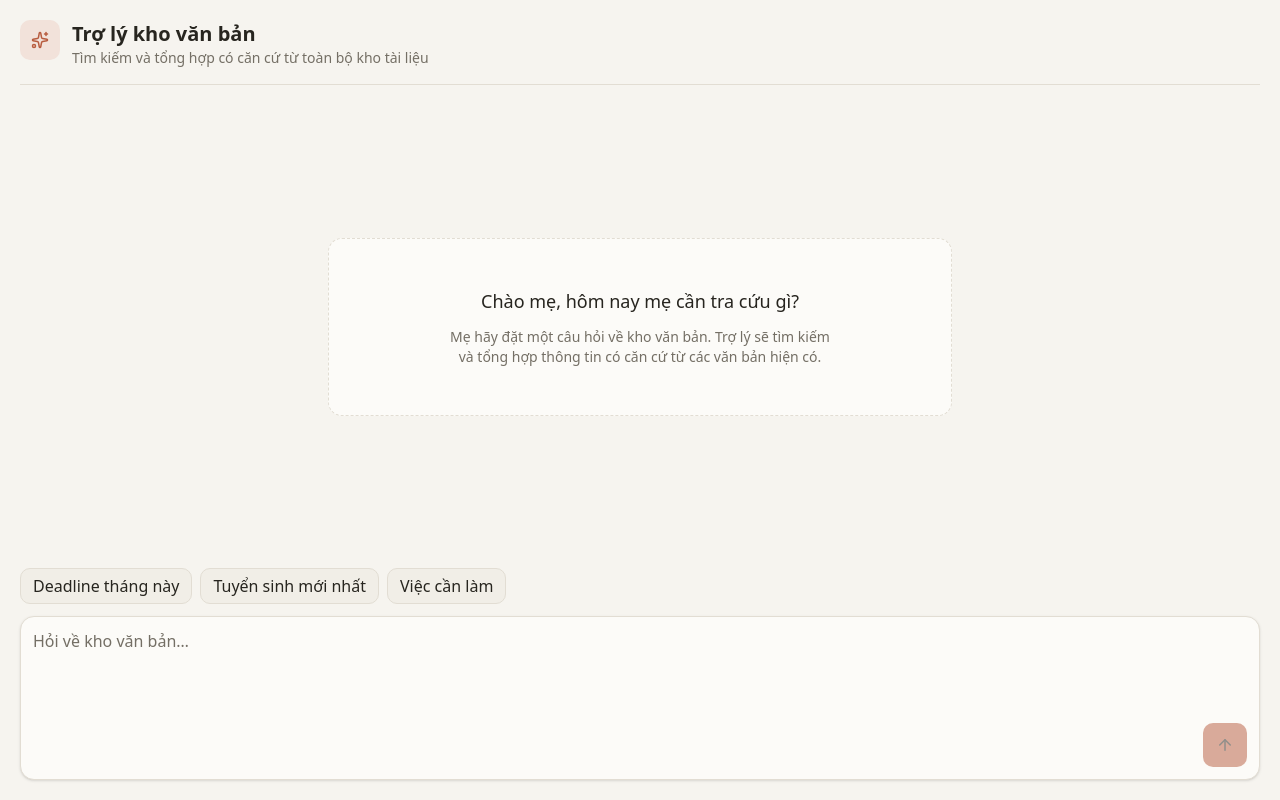
it: ArchiveAssistantPanel › 2. Every rendered citation chip belongs to the group whose document it cites — assert a citation for doc B does NOT appear under doc A's group
The width and height of the screenshot is (1280, 800).
Type "Các trích dẫn?" into the text box named "Câu hỏi" at (640, 669), box [33,629,1247,709]
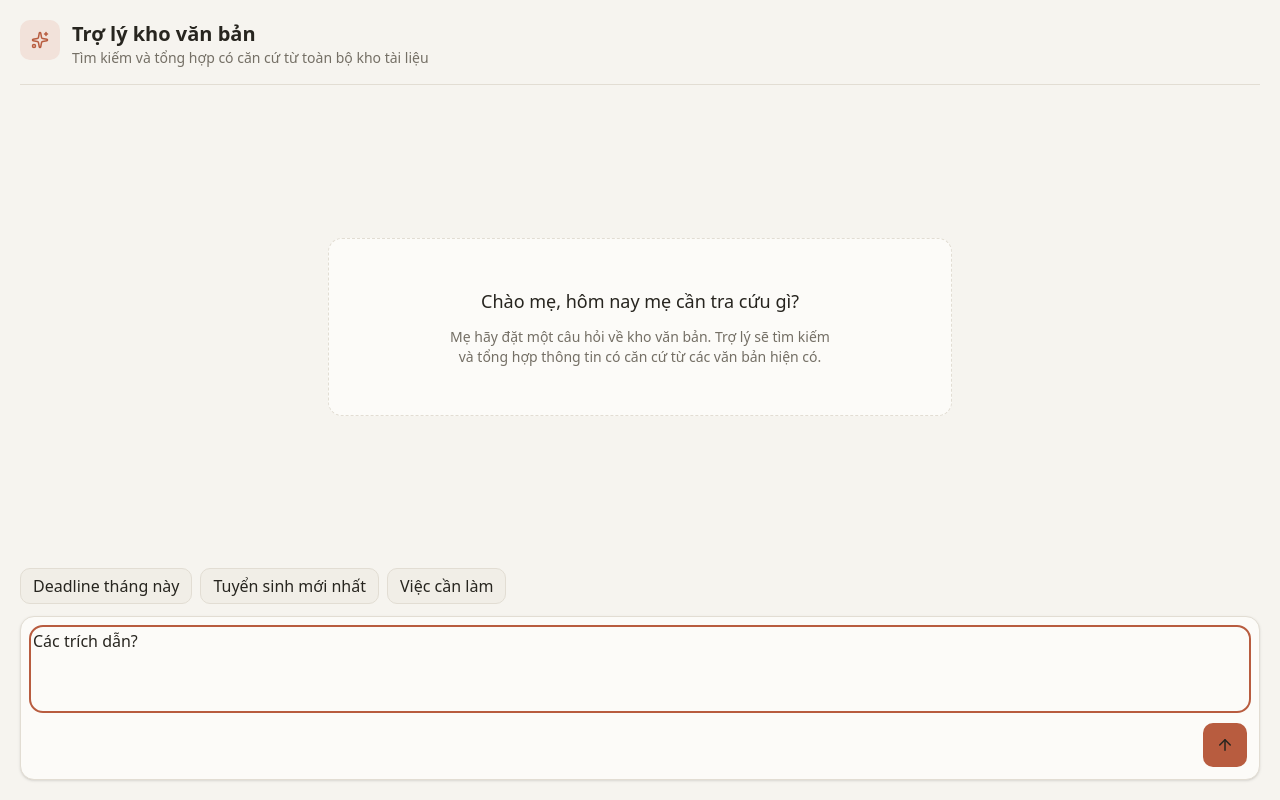
Click the button named "Gửi câu hỏi" at (1225, 745), box [1203,723,1247,767]
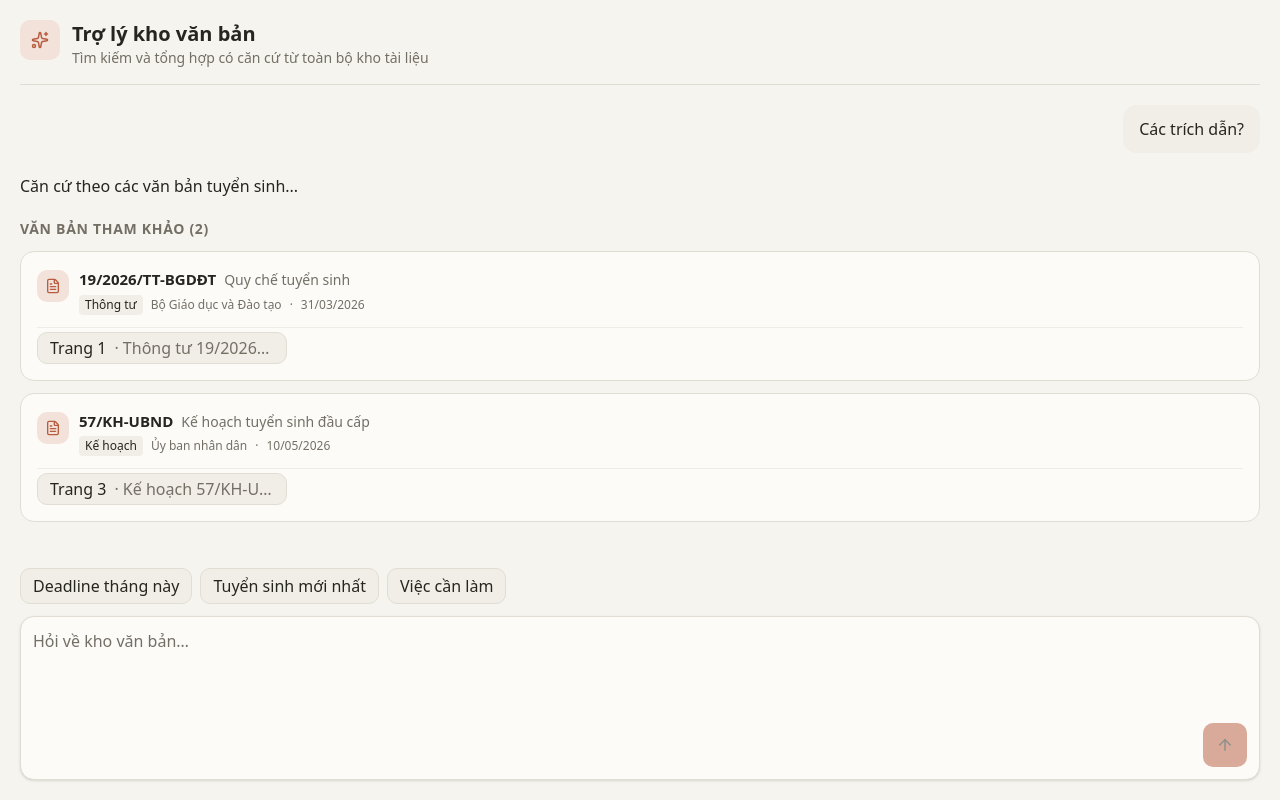
Expected: the text "Căn cứ theo các văn bản tuyển sinh..." is shown, [20,175,298,197]
Expected: the button with test id "citation-chip-c_a1" is shown, [37,332,287,364]
Expected: the button with test id "citation-chip-c_b1" is shown, [37,473,287,505]
